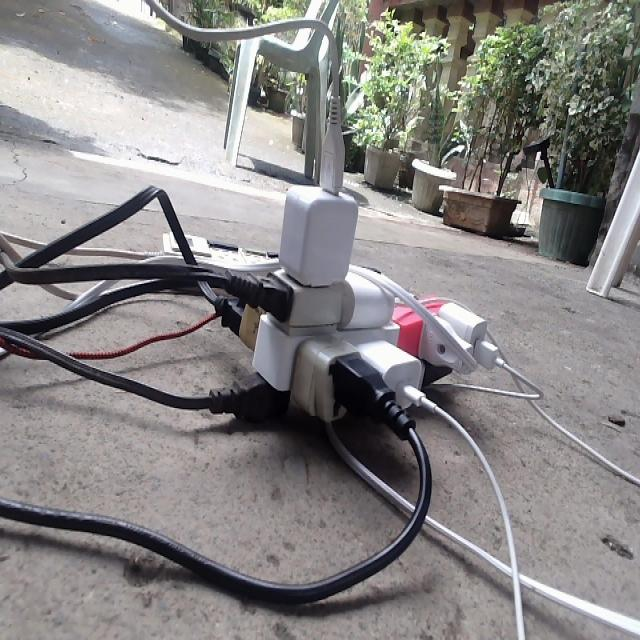-: (199, 93, 505, 444)
